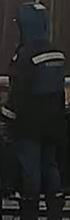vest: (10, 42, 65, 138)
